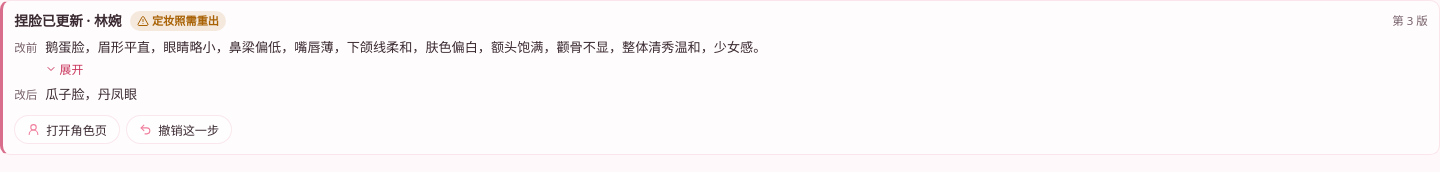
Test: ChatCardView › face card: shows name, stale badge, collapsed descriptions, and hands the buttons back
Later steps or results of the test are not shown.
Check: the text "捏脸已更新 · 林婉" is shown, box x1=14 y1=11 x2=122 y2=31
Check: the text "定妆照需重出" is shown, box x1=130 y1=11 x2=226 y2=31
Step 1. Click the button "展开" → (64, 69), box x1=45 y1=60 x2=83 y2=78
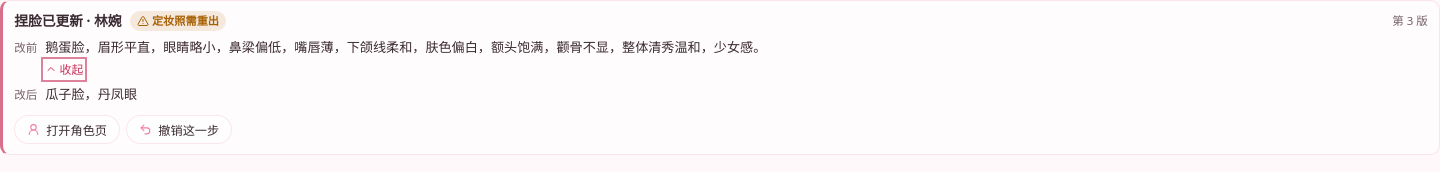
Check: the number of buttons "收起" is 1, box x1=45 y1=60 x2=83 y2=78
Check: the text "鹅蛋脸，眉形平直，眼睛略小，鼻梁偏低，嘴唇薄，下颌线柔和，肤色偏白，额头饱满，颧骨不显，整体清秀温和，少女感。" does not have class "is-collapsed", box x1=45 y1=38 x2=766 y2=58
